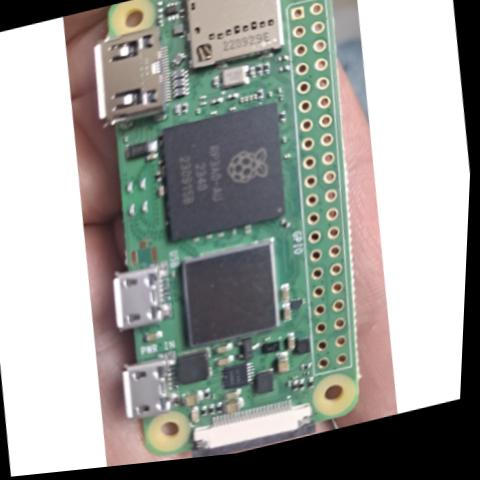Raspberry-Pi-Zero-2-W: (70, 0, 393, 473)
